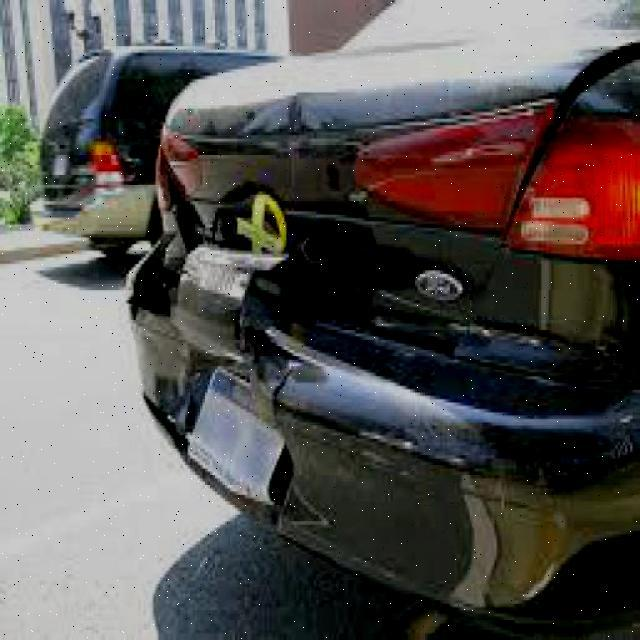car damage: (123, 138, 465, 541)
